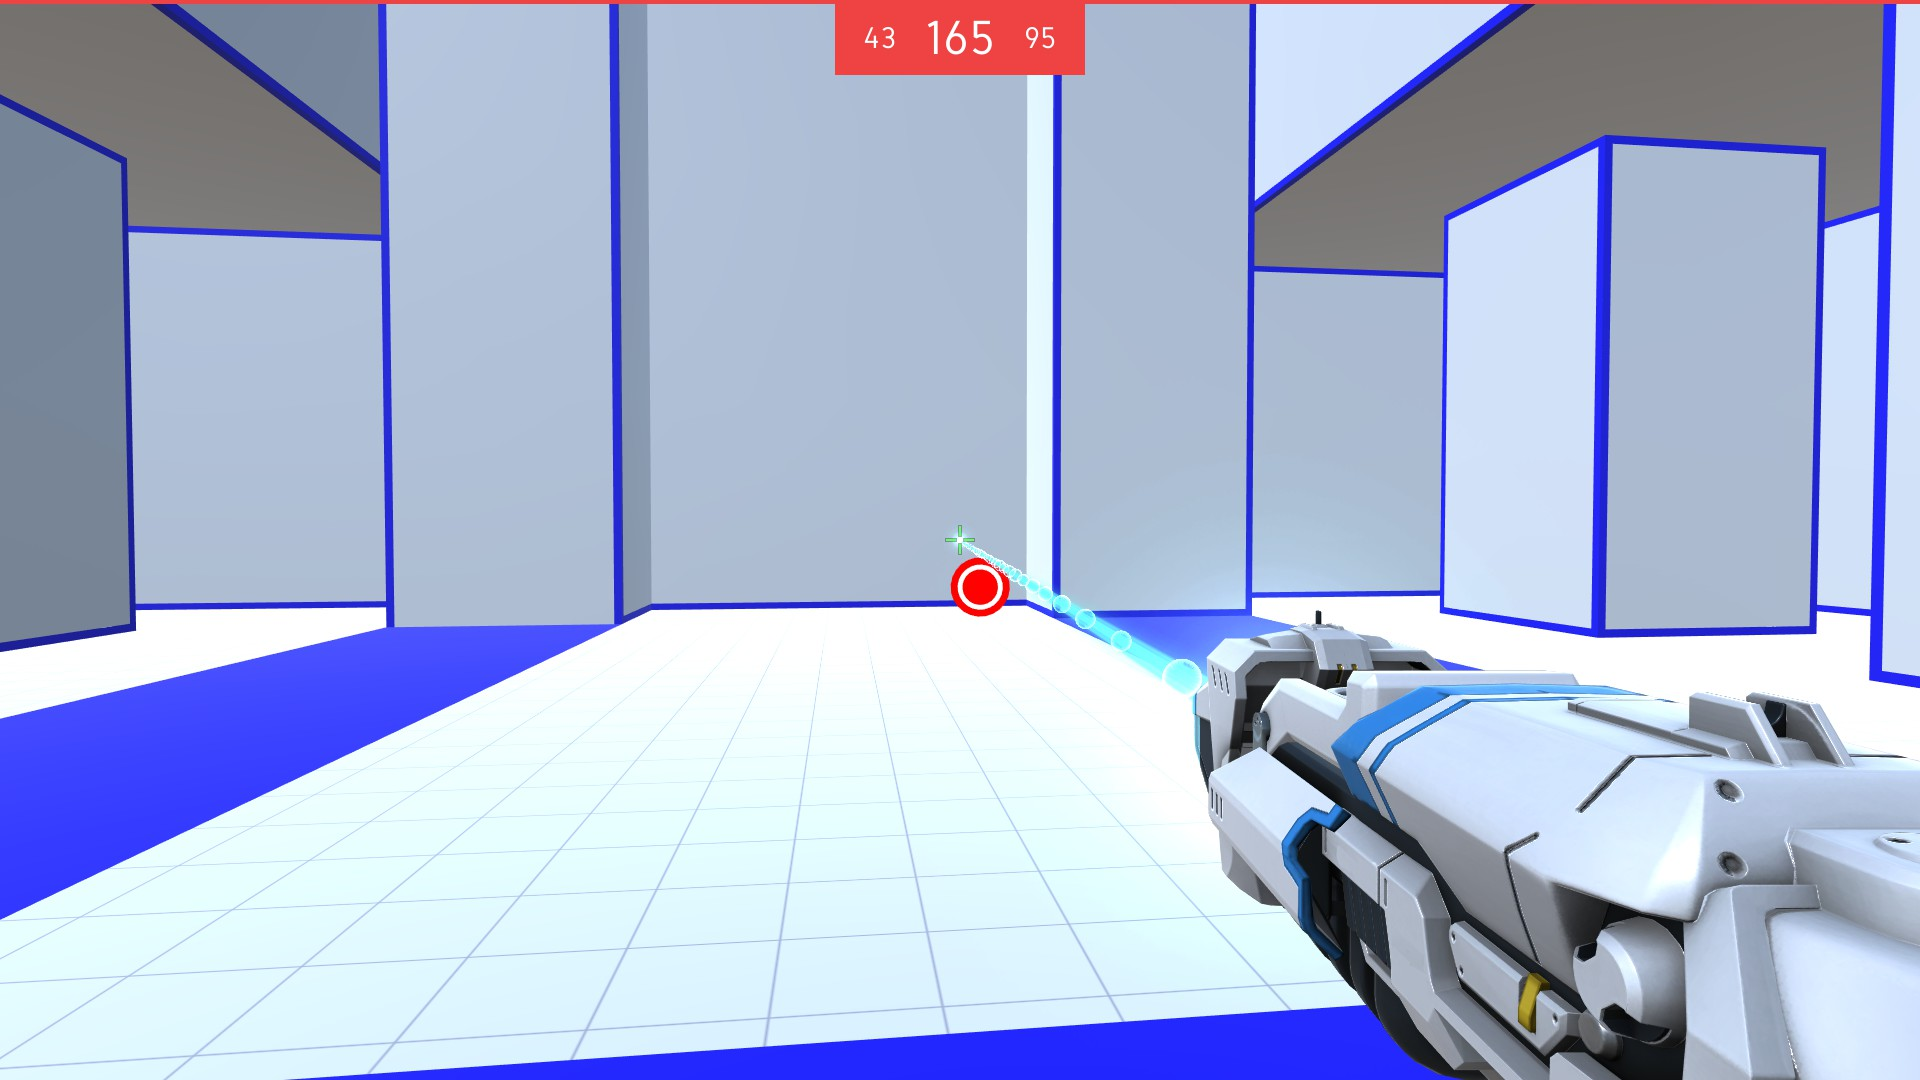target: (949, 556, 1010, 615)
